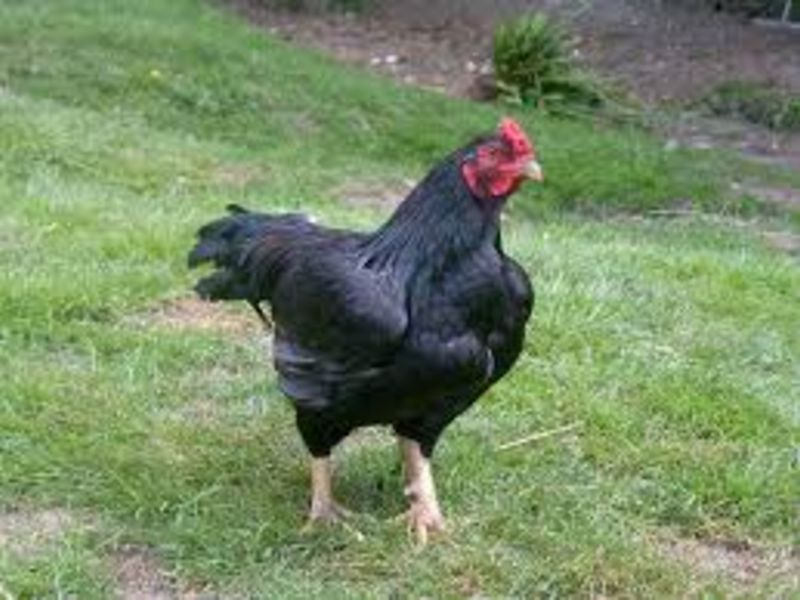hen: (174, 99, 556, 556)
